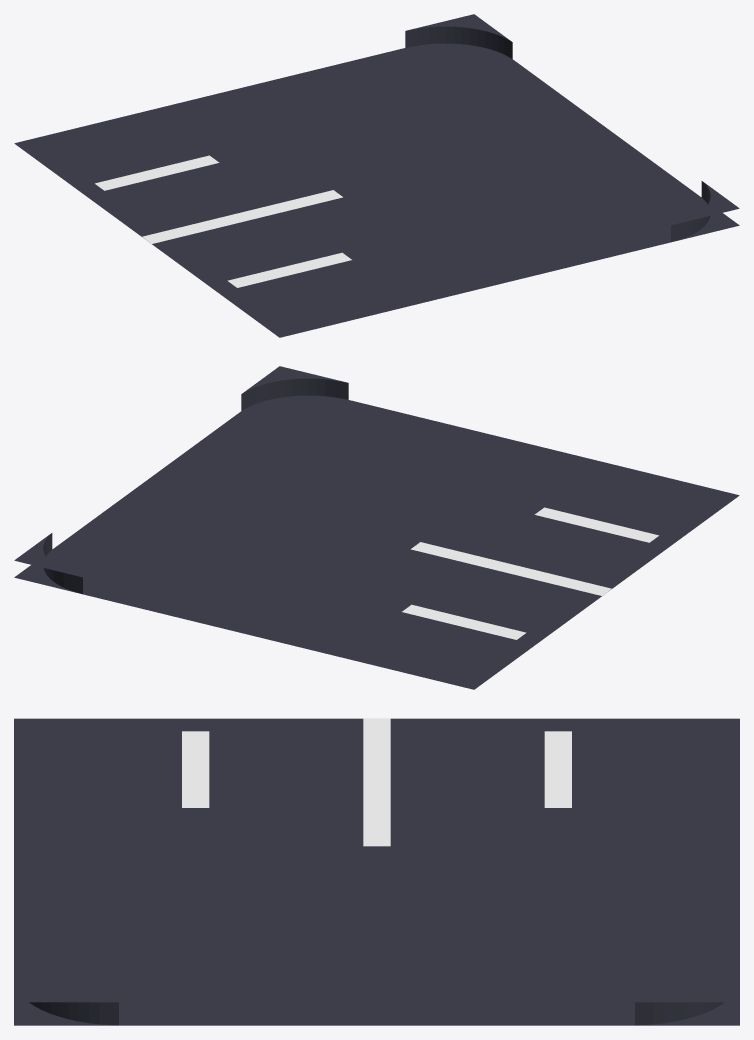
Rendered from aft alp 2 u turn.fbx.
3 renders of one model, top to bottom at view 1: azimuth 30°, elevation 25°; view 2: azimuth 150°, elevation 25°; view 3: azimuth 270°, elevation 25°, orthographic. The views are drawn at different scales.
Visible parts, largest first — view 1: aft_alp_2_u_turn; view 2: aft_alp_2_u_turn; view 3: aft_alp_2_u_turn.
Part boxes in pixels (bbox=[...]): aft_alp_2_u_turn: bbox=[14, 14, 739, 337]; aft_alp_2_u_turn: bbox=[14, 366, 739, 689]; aft_alp_2_u_turn: bbox=[14, 718, 739, 1025].
Bounding box in the file's own units: 1000 × 35.23 × 1000.
